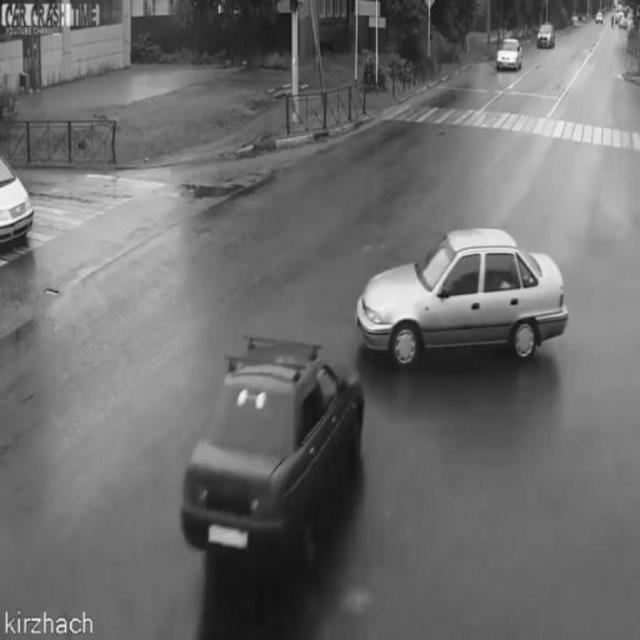vehicle: (170, 322, 366, 537), (348, 224, 569, 356), (0, 158, 44, 261), (489, 29, 525, 75), (538, 24, 556, 48)
